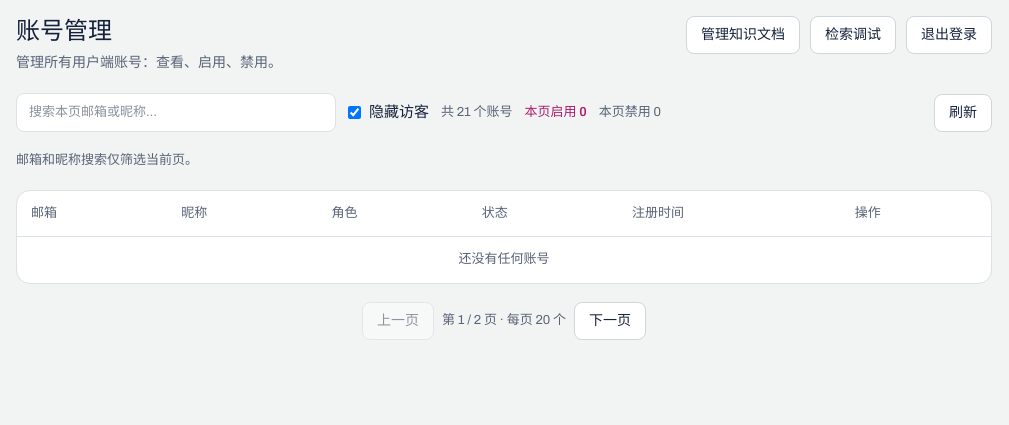
Test: 翻页加载失败保留当前页并支持重试
Step 1. Click the button "下一页" → (610,321), box [574, 302, 646, 340]
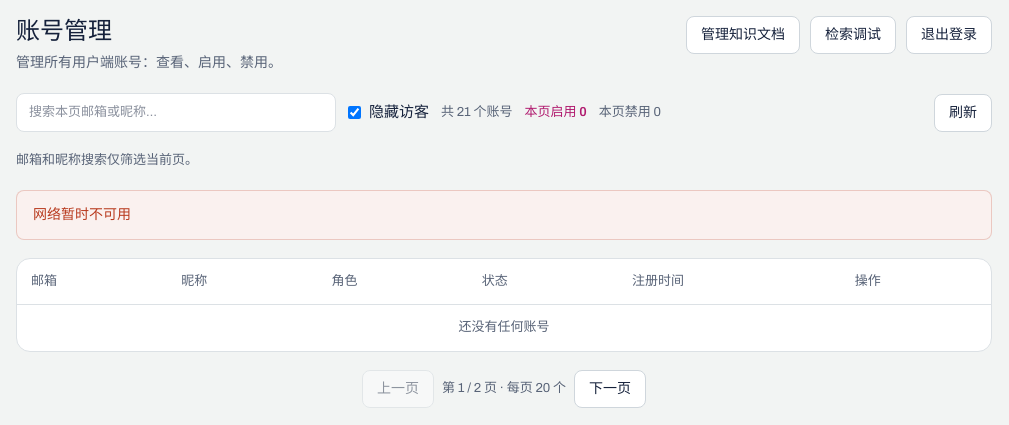
Check: the text "第 1 / 2 页" is shown, box [442, 381, 566, 395]
Check: the text "网络暂时不可用" is shown, box [16, 190, 992, 240]
Step 2. Click the button "下一页" → (610,388), box [574, 370, 646, 408]
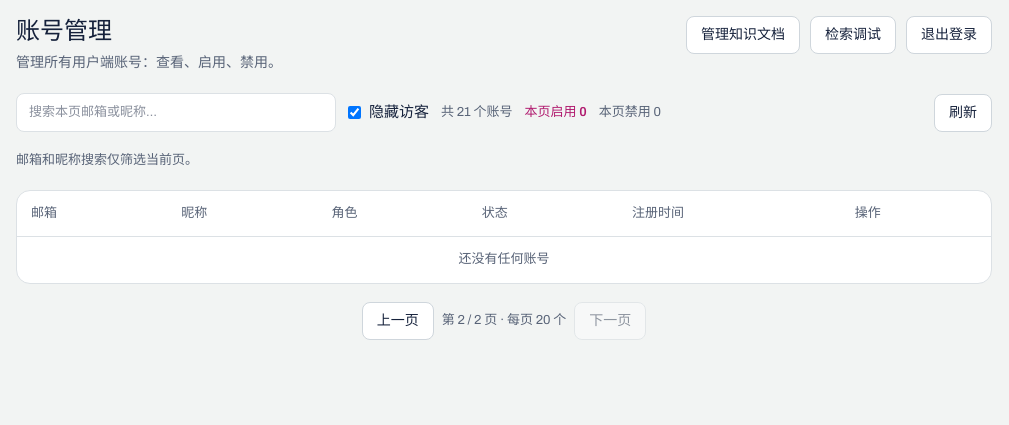
Check: the text "第 2 / 2 页" is shown, box [442, 313, 566, 327]
Check: the text "网络暂时不可用" is gone
